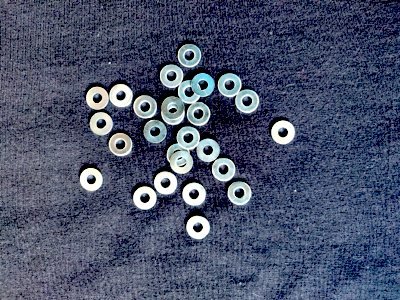circle: (132, 94, 159, 121), (78, 166, 105, 193), (179, 181, 207, 207), (176, 43, 205, 68), (178, 79, 204, 105), (195, 138, 221, 164), (132, 186, 158, 212), (271, 118, 295, 146), (108, 82, 134, 107), (159, 63, 185, 88), (235, 89, 261, 114), (227, 181, 253, 206), (142, 118, 167, 144), (109, 133, 134, 159), (88, 112, 114, 137), (186, 216, 212, 241), (211, 157, 236, 182), (86, 86, 110, 111), (176, 126, 201, 150), (153, 172, 178, 196), (162, 99, 185, 125), (187, 102, 211, 126), (218, 74, 242, 98), (167, 143, 191, 167), (162, 97, 186, 120), (192, 73, 214, 97), (170, 152, 194, 174)
